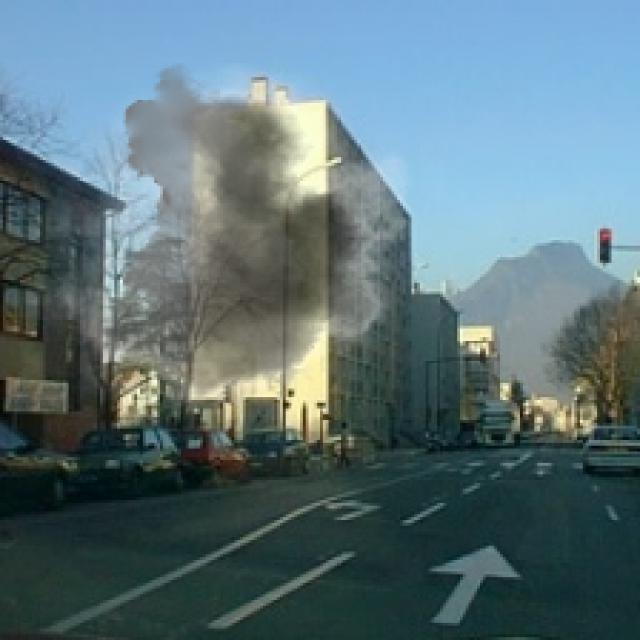smoke: (11, 63, 432, 428)
